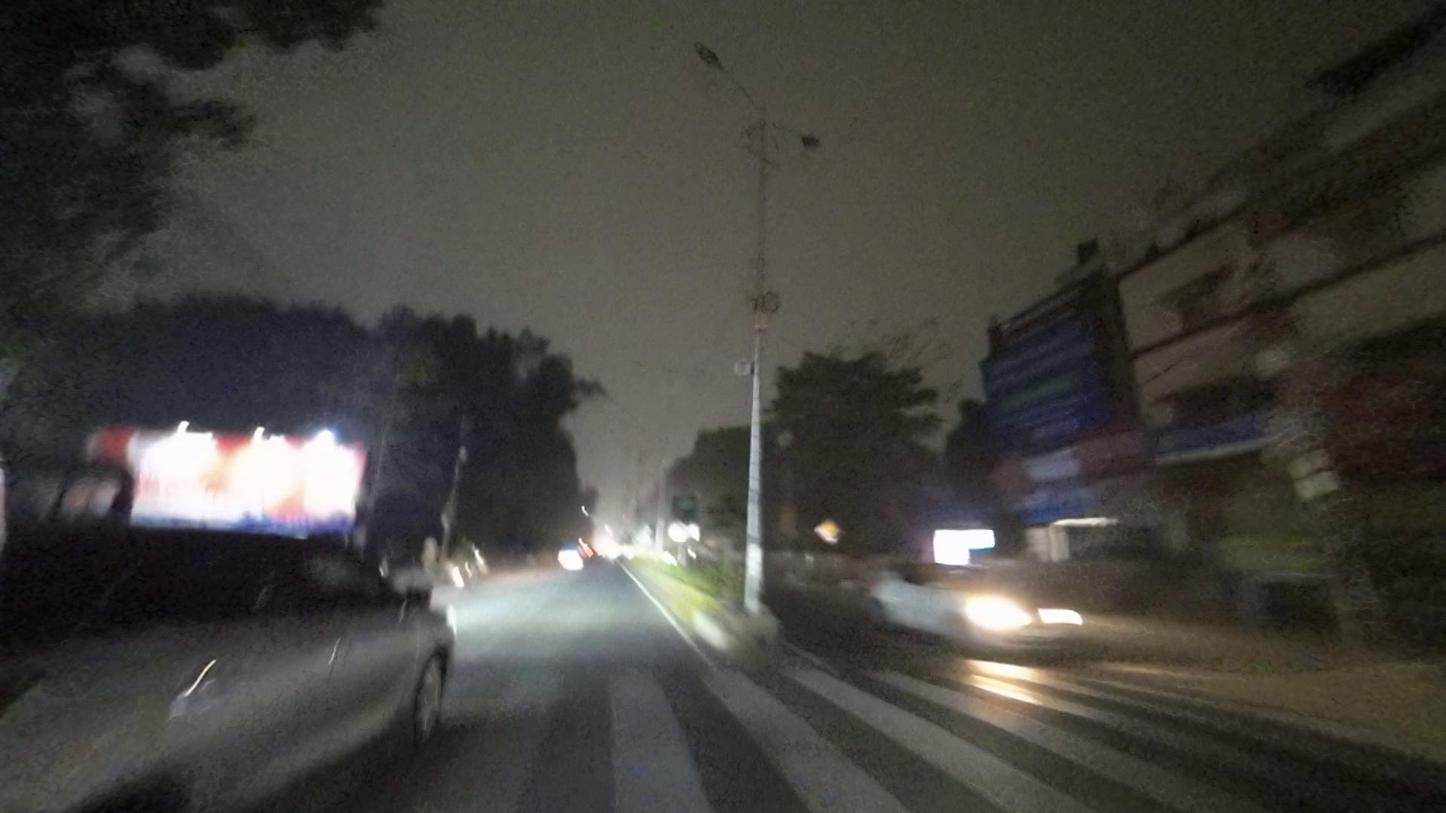streetlight: (691, 37, 760, 118), (766, 114, 828, 154)
